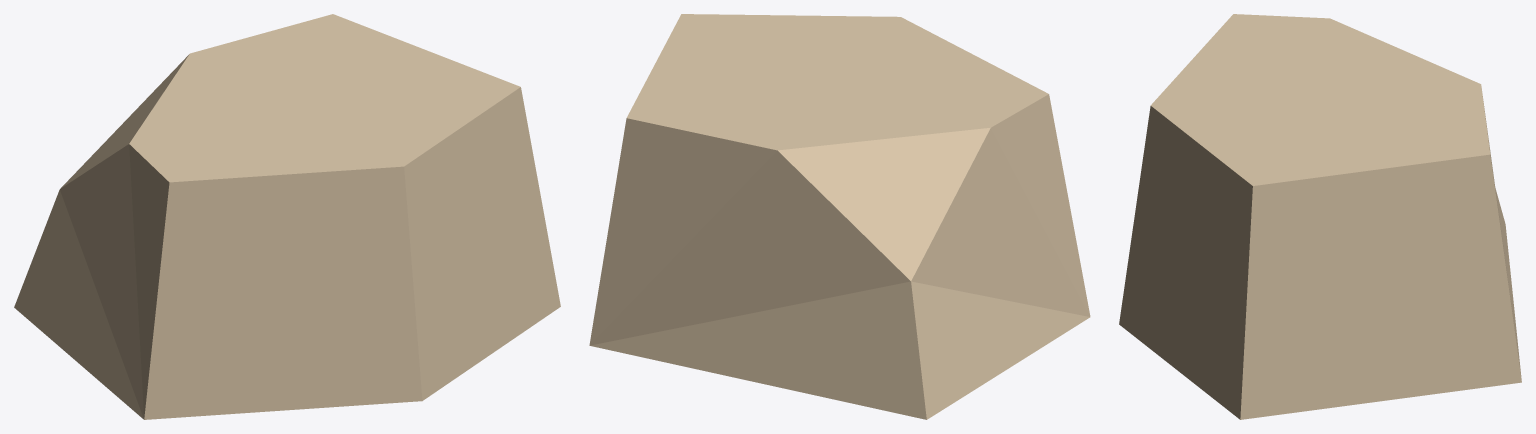
Rendered from SM_Env_Pebble_02.fbx.
The picture shows the model from 3 angles, left to right: view 1: azimuth 30°, elevation 25°; view 2: azimuth 150°, elevation 25°; view 3: azimuth 270°, elevation 25°; orthographic projection. The views are drawn at different scales.
Visible parts, largest first — view 1: SM_Env_Pebble_02; view 2: SM_Env_Pebble_02; view 3: SM_Env_Pebble_02.
Boxes of the visible parts, left/top/right/bottom form: SM_Env_Pebble_02: left=14, top=14, right=560, bottom=419; SM_Env_Pebble_02: left=589, top=14, right=1090, bottom=419; SM_Env_Pebble_02: left=1119, top=14, right=1521, bottom=419.
Bounding box in the file's own units: 0.000741 × 0.000369 × 0.000618.
Materials: 1 (1 with a texture image).
